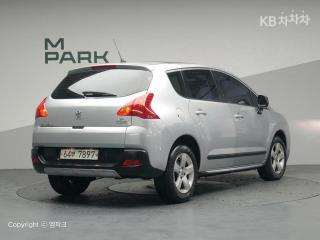4: (67, 150, 71, 158)
6: (62, 150, 67, 158)
7: (91, 151, 97, 158), (78, 150, 82, 158)
8: (82, 151, 87, 159)
9: (86, 151, 91, 158)
부: (71, 151, 76, 157)
